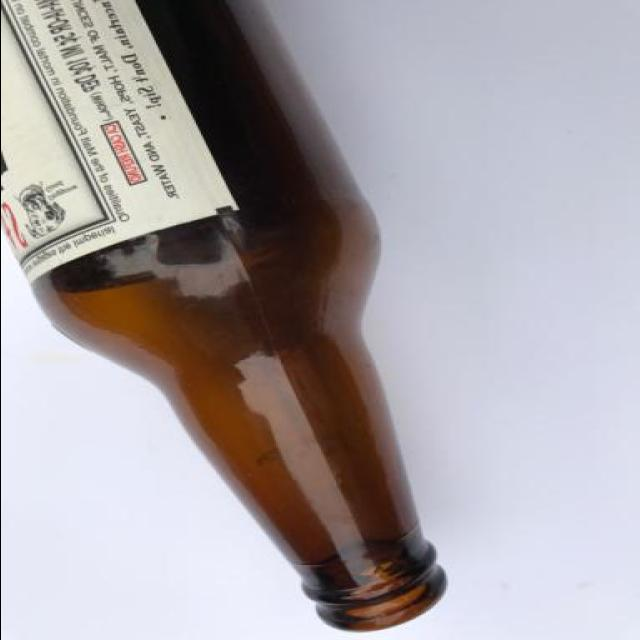glass: (0, 1, 482, 632)
